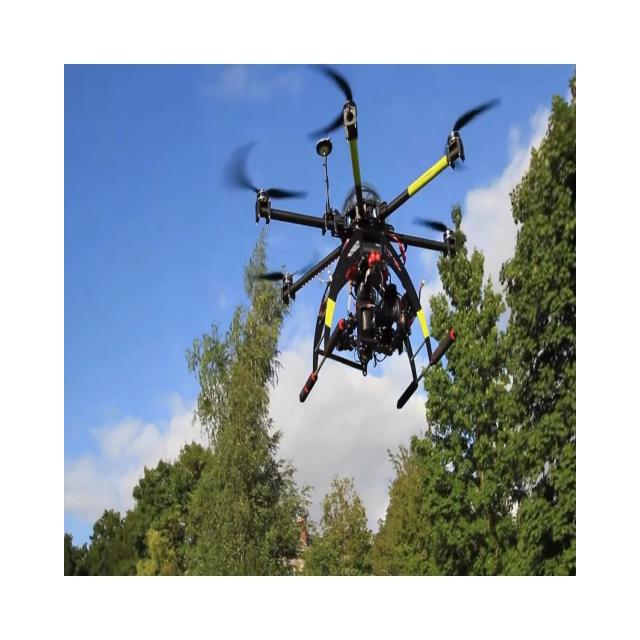drone: (223, 65, 501, 410)
